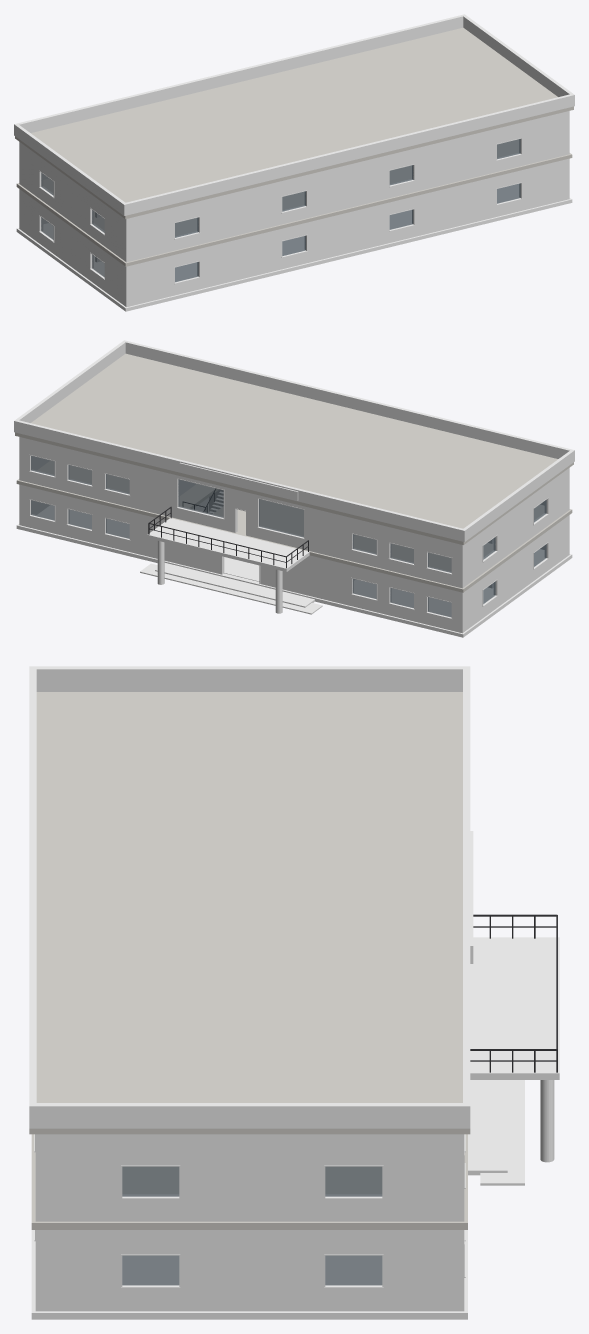
File: campus_architecture.glb
3 views of the same model, one above another, from view 1: azimuth 30°, elevation 25°; view 2: azimuth 150°, elevation 25°; view 3: azimuth 270°, elevation 25° (orthographic). The views are drawn at different scales.
Parts seen in each view (by area): view 1: Roof_Main, Wall_1_Back, Wall_G_Back, Parapet_Back, Parapet_Front, Wall_1_Left, Wall_G_Left, Bld_Plinth, Slab_Floor_1_West, Parapet_Left, Parapet_Right, Bld_Floor_G (+1 smaller); view 2: Roof_Main, Wall_1_Front, Wall_G_Front, Parapet_Back, Parapet_Front, Slab_Floor_1_West, Wall_1_Left, Wall_G_Left, Canopy_Roof, Bld_Floor_G, Bld_Plinth, Slab_Floor_1_East (+8 smaller); view 3: Roof_Main, Wall_1_Right, Wall_G_Right, Canopy_Roof, Parapet_Right, Parapet_Left, Slab_Floor_1_East, Bld_Plinth, Parapet_Front, Parapet_Back, Bld_Steps_1, Bld_Floor_G (+7 smaller).
Boxes of the visible parts, x1,y1,x2,y2 form: Roof_Main: [15, 27, 573, 218]; Wall_1_Back: [124, 111, 569, 262]; Wall_G_Back: [124, 158, 569, 307]; Parapet_Back: [122, 94, 574, 215]; Parapet_Front: [14, 14, 465, 135]; Wall_1_Left: [21, 143, 124, 260]; Wall_G_Left: [21, 190, 124, 305]; Bld_Plinth: [16, 198, 572, 311]; Slab_Floor_1_West: [16, 179, 390, 266]; Parapet_Left: [14, 124, 125, 214]; Parapet_Right: [463, 14, 572, 96]; Bld_Floor_G: [43, 184, 518, 280]; Roof_Main: [15, 353, 573, 544]; Wall_1_Front: [19, 437, 464, 588]; Wall_G_Front: [19, 484, 464, 633]; Parapet_Back: [123, 340, 574, 462]; Parapet_Front: [14, 419, 466, 541]; Slab_Floor_1_West: [198, 499, 572, 592]; Wall_1_Left: [464, 469, 567, 586]; Wall_G_Left: [464, 516, 567, 631]; Canopy_Roof: [147, 518, 309, 571]; Bld_Floor_G: [37, 505, 544, 615]; Bld_Plinth: [16, 524, 572, 637]; Slab_Floor_1_East: [16, 461, 218, 520]; Roof_Main: [29, 692, 470, 1134]; Wall_1_Right: [43, 1134, 456, 1221]; Wall_G_Right: [43, 1230, 456, 1311]; Canopy_Roof: [470, 937, 559, 1079]; Parapet_Right: [31, 1103, 467, 1128]; Parapet_Left: [31, 666, 467, 691]; Slab_Floor_1_East: [31, 1134, 467, 1229]; Bld_Plinth: [31, 1230, 467, 1319]; Parapet_Front: [463, 666, 470, 1128]; Parapet_Back: [29, 666, 36, 1128]; Bld_Steps_1: [468, 1080, 507, 1175]; Bld_Floor_G: [122, 1256, 381, 1282].
Bounding box in the file's own units: 42 × 9.6 × 21.4.
